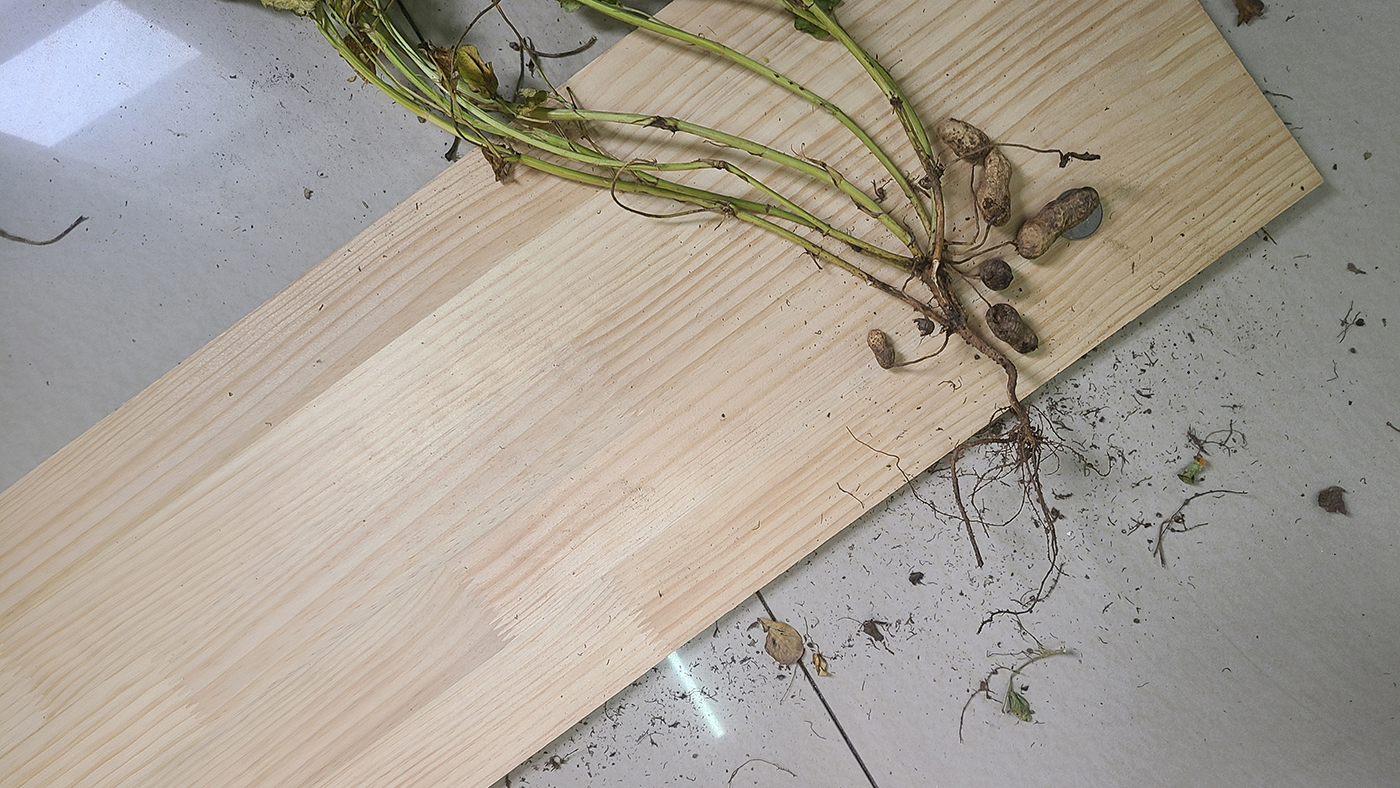h: (939, 116, 991, 162)
l: (1015, 187, 1100, 259), (975, 147, 1013, 226), (985, 302, 1039, 354), (867, 328, 896, 369), (979, 258, 1013, 289), (1058, 150, 1101, 167), (914, 318, 935, 338)
